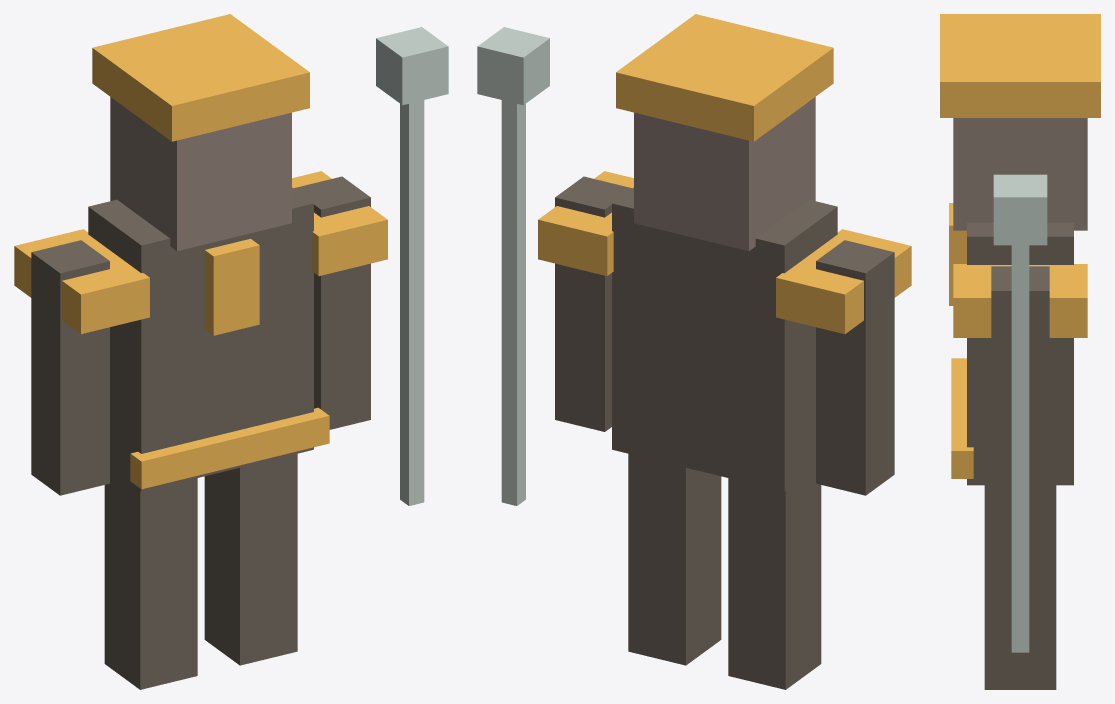
The model's file is 08_eryk_echohand_mechanist_at_observation.glb.
3 renders of one model, left to right at view 1: azimuth 30°, elevation 25°; view 2: azimuth 150°, elevation 25°; view 3: azimuth 270°, elevation 25°, orthographic.
Parts seen in each view (by area): view 1: Eryk Echohand, Mechanist at Observation; view 2: Eryk Echohand, Mechanist at Observation; view 3: Eryk Echohand, Mechanist at Observation.
Boxes of the visible parts, box(x1,y1,x2,y2) form: Eryk Echohand, Mechanist at Observation: box(14, 14, 448, 689); Eryk Echohand, Mechanist at Observation: box(477, 14, 911, 689); Eryk Echohand, Mechanist at Observation: box(940, 14, 1100, 689).
Bounding box in the file's own units: 0.9915 × 1.45 × 0.3517.
